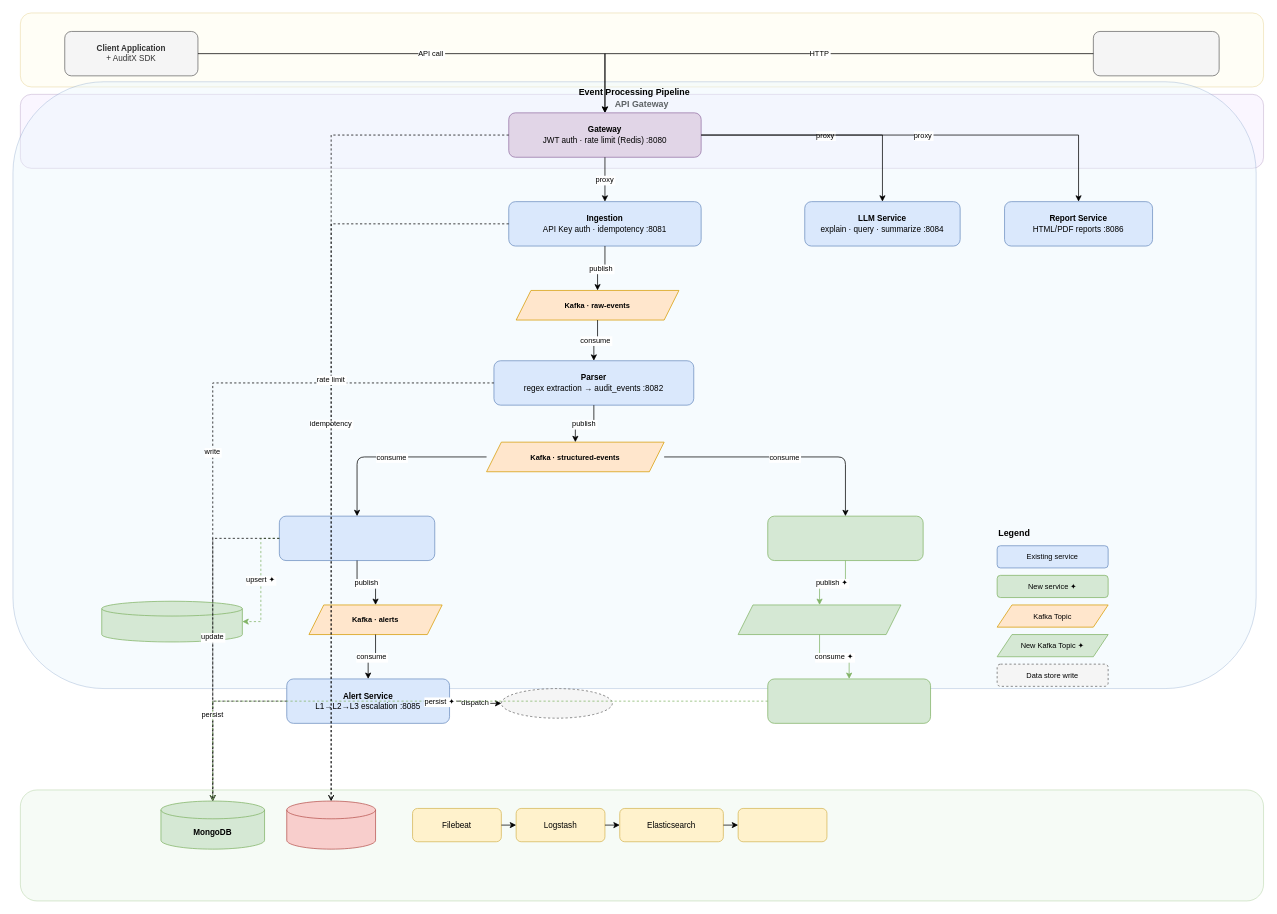
Some shapes in this 1277 by 914 pixel diagram are drawn without their labels. Here are the shapes that lost their labels. From the top down, the box of each, then its label:
(20, 12, 1264, 87): Client Layer
(1093, 31, 1219, 76): Dashboard React :3000
(279, 515, 435, 561): Risk Engine rule scoring 0–100 :8083
(767, 515, 923, 561): Policy Engine ✦ SpEL expression rules :8087
(101, 601, 242, 642): user_risk_profiles ✦ weighted moving avg / user
(737, 604, 901, 635): Kafka · policy-violations ✦
(501, 688, 612, 718): Webhook / Email
(767, 678, 931, 723): Compliance Engine ✦ GDPR · SOC2 · DPDP :8088
(286, 800, 376, 849): Redis
(737, 808, 827, 842): Kibana :5601
(20, 789, 1264, 901): Infrastructure
